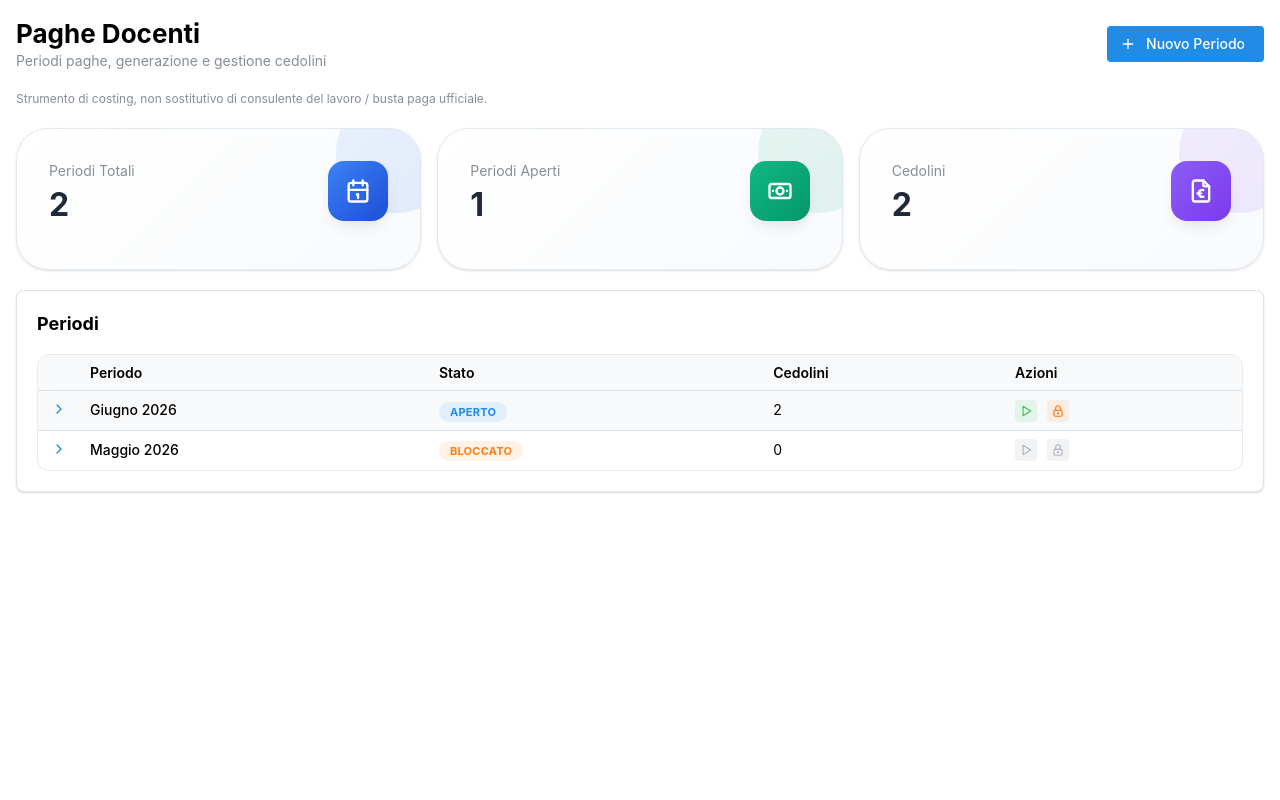
Test: Payroll Page › espande un periodo e mostra i cedolini con nome docente e netto
The image size is (1280, 800).
What coordinates should you click on to do the following:
click the button named "Espandi periodo Giugno 2026"
I would click on:
 (59, 409)
Its box is [48,398,70,420].
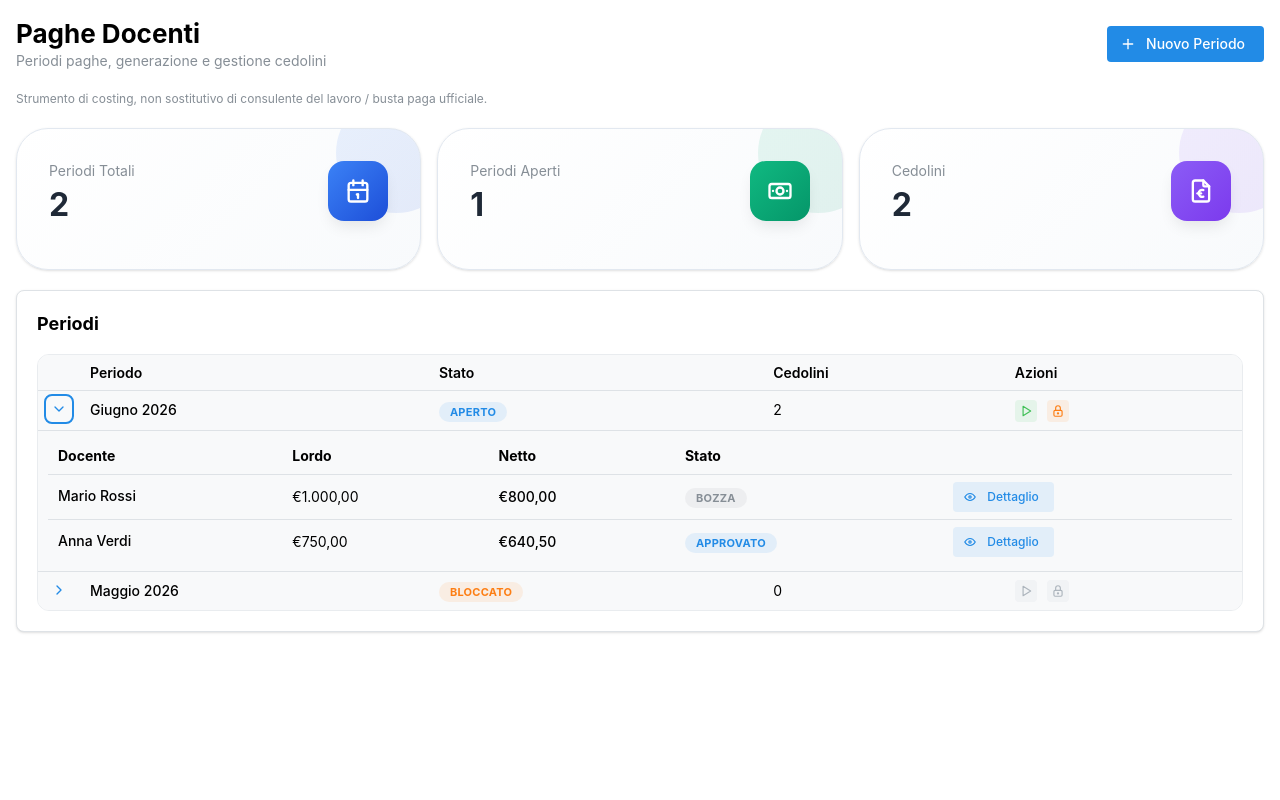
Result: the text "Mario Rossi" is shown at [58,488,136,504]
Result: the text "Anna Verdi" is shown at [58,532,131,550]
Result: the text "€800,00" is shown at [488,474,675,519]
